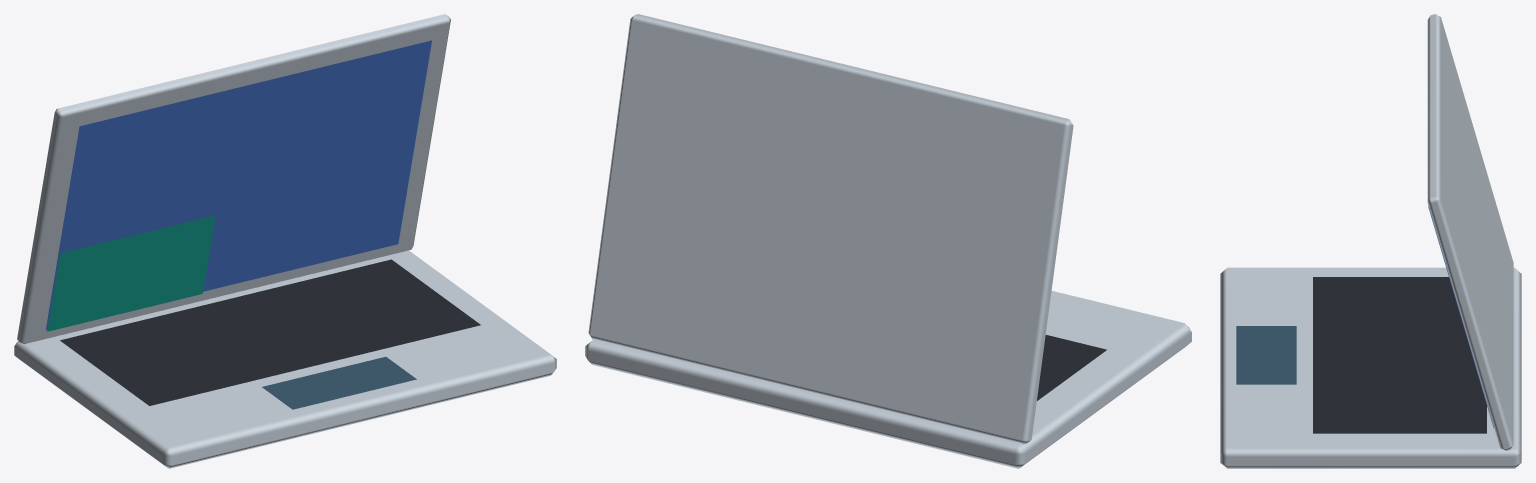
File: CM_Product_Laptop.fbx
3 views of the same model, side by side, from view 1: azimuth 30°, elevation 25°; view 2: azimuth 150°, elevation 25°; view 3: azimuth 270°, elevation 25° (orthographic). The views are drawn at different scales.
Visible parts, largest first — view 1: Laptop; view 2: Laptop; view 3: Laptop.
Boxes of the visible parts, bbox=[...] form: Laptop: bbox=[14, 14, 556, 468]; Laptop: bbox=[585, 14, 1191, 468]; Laptop: bbox=[1220, 14, 1521, 468].
Size of the model in its own units: 1.9 by 1.3 by 1.3.
Materials: 1 (1 with a texture image).
